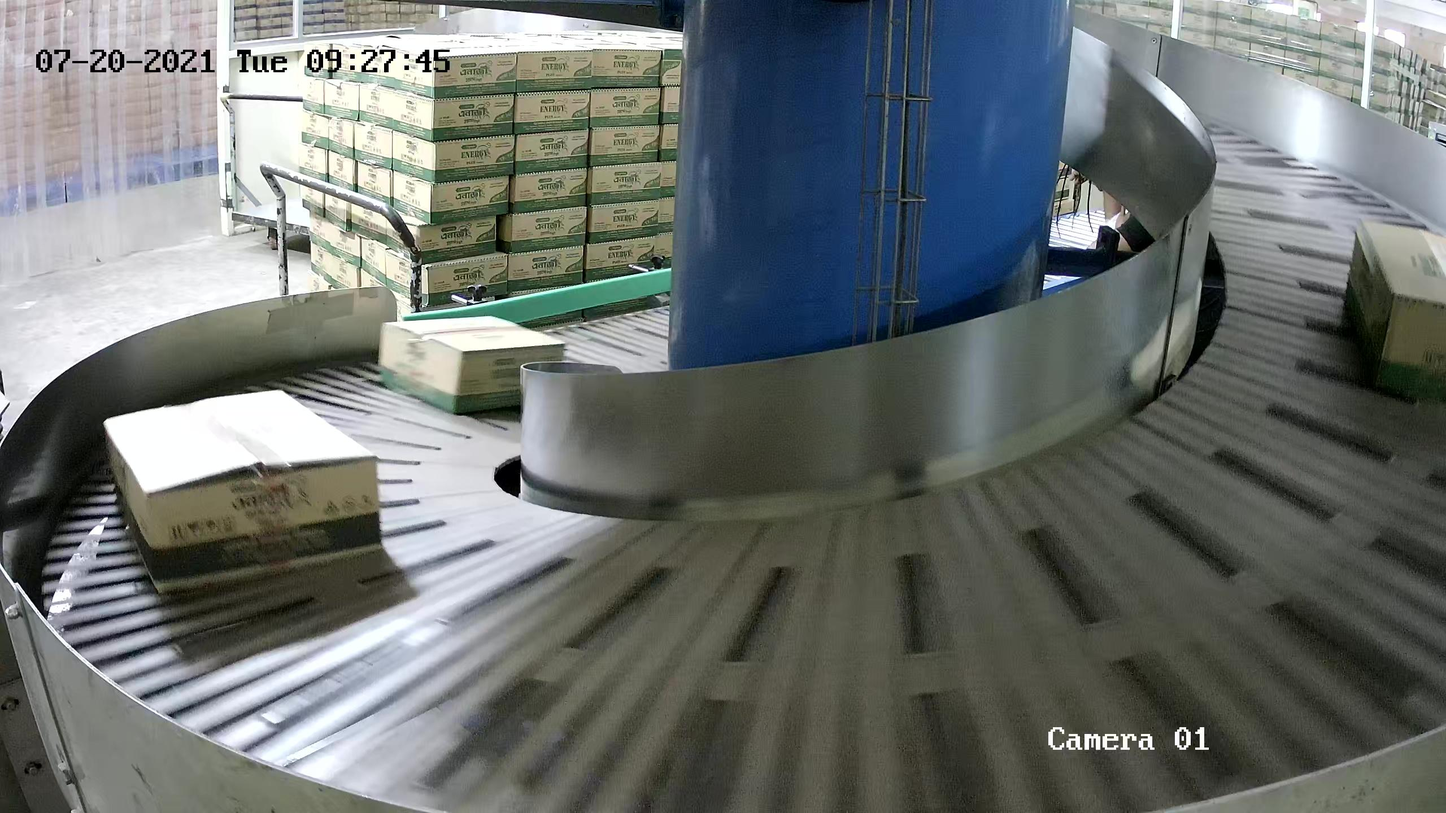Box: (102, 387, 385, 598), (1342, 218, 1446, 404), (376, 313, 566, 414)
